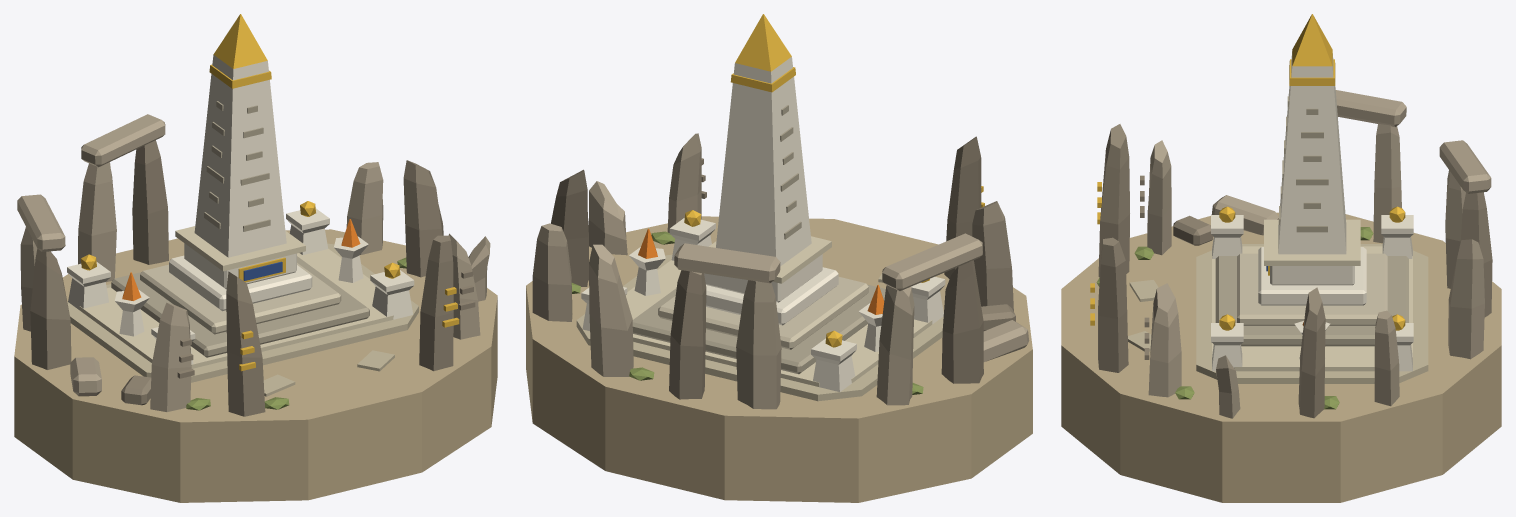
The model's file is ns-landmark.glb.
3 renders of one model, left to right at view 1: azimuth 30°, elevation 25°; view 2: azimuth 150°, elevation 25°; view 3: azimuth 270°, elevation 25°, orthographic. The views are drawn at different scales.
Parts seen in each view (by area): view 1: GW solid.009, GW solid, GW prism.001, Cube, GW prism, Cube.001, GW menhir.011, GW menhir.009, GW menhir.006, GW menhir, GW menhir.010, GW menhir.007 (+19 smaller); view 2: GW solid.009, GW solid, GW menhir.007, GW menhir.005, GW menhir.009, GW menhir.006, Cube, GW menhir.008, Cube.001, GW prism, GW menhir.004, GW menhir.010 (+19 smaller); view 3: GW solid.009, GW solid, GW prism, Cube, Cube.001, GW menhir.005, GW prism.001, GW menhir, GW menhir.011, GW menhir.001, GW menhir.003, Cube.002 (+18 smaller).
Boxes of the visible parts, x1,y1,x2,y2 form: GW solid.009: (14, 229, 497, 502); GW solid: (194, 55, 286, 257); GW prism.001: (79, 249, 393, 368); Cube: (111, 256, 369, 357); GW prism: (67, 243, 418, 382); Cube.001: (140, 263, 341, 334); GW menhir.011: (226, 271, 265, 416); GW menhir.009: (30, 248, 71, 369); GW menhir.006: (132, 140, 168, 264); GW menhir: (419, 235, 453, 371); GW menhir.010: (150, 302, 191, 411); GW menhir.007: (78, 162, 116, 282); GW solid.009: (526, 216, 1032, 502); GW solid: (716, 57, 811, 266); GW menhir.007: (736, 280, 781, 409); GW menhir.005: (589, 244, 633, 376); GW menhir.009: (941, 260, 983, 383); GW menhir.006: (669, 270, 706, 399); Cube: (632, 284, 885, 374); GW menhir.008: (876, 285, 914, 405); Cube.001: (658, 277, 868, 349); GW prism: (576, 254, 943, 401); GW menhir.004: (532, 223, 572, 321); GW menhir.010: (972, 201, 1013, 311); GW solid.009: (1061, 212, 1501, 502); GW solid: (1278, 51, 1346, 254); GW prism: (1196, 244, 1428, 383); Cube: (1215, 256, 1408, 346); Cube.001: (1237, 253, 1387, 325); GW menhir.005: (1448, 239, 1484, 359); GW prism.001: (1212, 246, 1412, 371); GW menhir: (1098, 237, 1128, 372); GW menhir.011: (1098, 124, 1129, 277); GW menhir.001: (1148, 283, 1181, 397); GW menhir.003: (1298, 287, 1325, 418); Cube.002: (1258, 247, 1366, 305).
Bounding box in the file's own units: 1.28 × 1.1 × 1.14.
